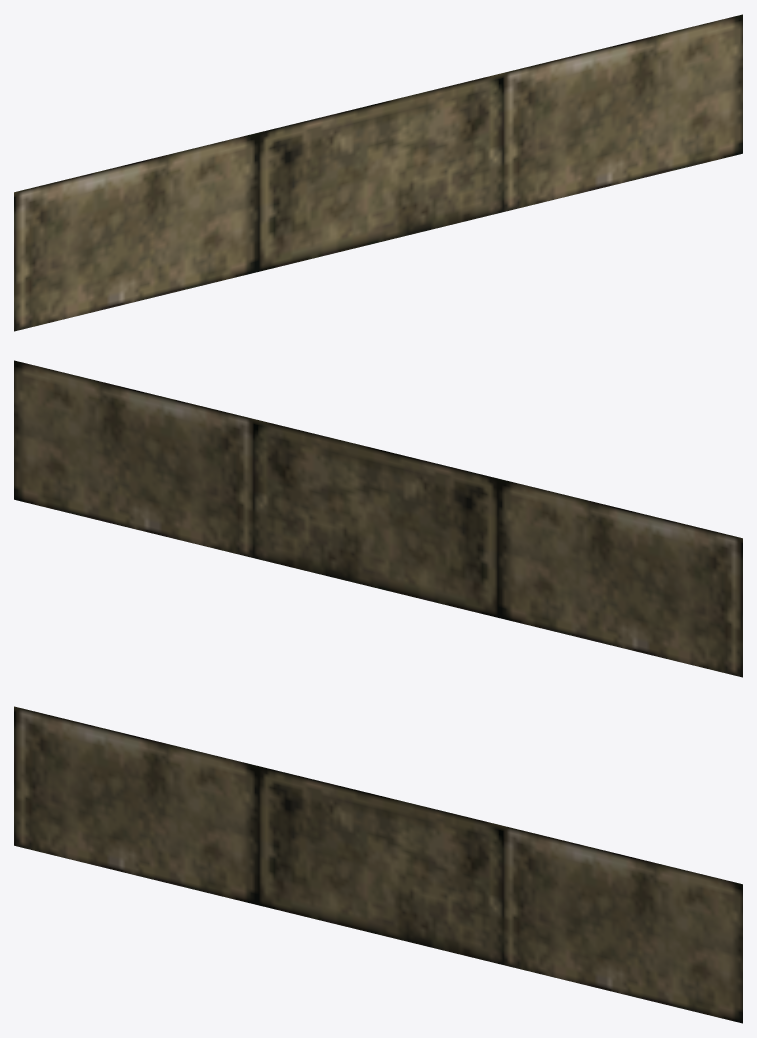
File: OVERHILL_A_01_OBJECT98.fbx
3 views of the same model, one above another, from view 1: azimuth 30°, elevation 25°; view 2: azimuth 150°, elevation 25°; view 3: azimuth 330°, elevation 25° (orthographic).
Visible parts, largest first — view 1: OVERHILL_A_01_OBJECT98; view 2: OVERHILL_A_01_OBJECT98; view 3: OVERHILL_A_01_OBJECT98.
Part boxes in pixels (box(x1,y1,x2,y2)): OVERHILL_A_01_OBJECT98: box(14, 14, 742, 331); OVERHILL_A_01_OBJECT98: box(14, 360, 742, 677); OVERHILL_A_01_OBJECT98: box(14, 706, 742, 1023).
Bounding box in the file's own units: 42015 × 7671 × 0.00125.
Materials: 1 (1 with a texture image).
